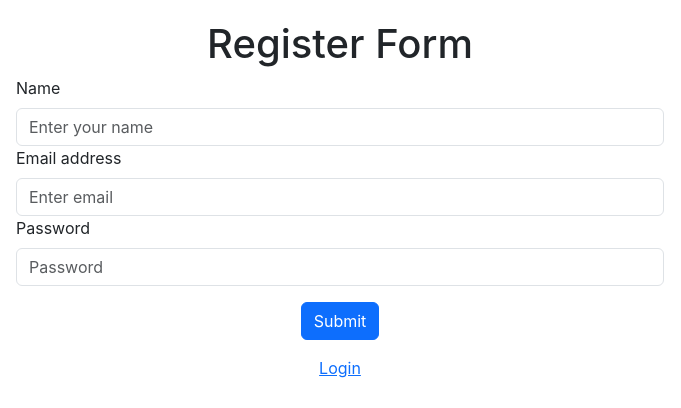
Test: Register component › displays validation error if email is missing
Click the button "Submit" at (340, 321), box 301,302 -> 379,340
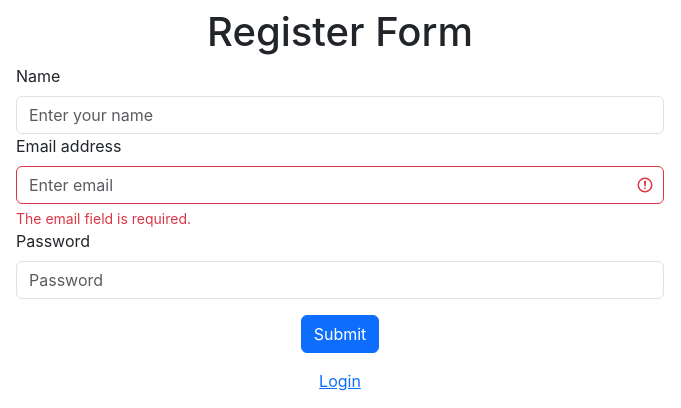
Expected: the text "The email field is required." is shown, 16,210 -> 191,226
